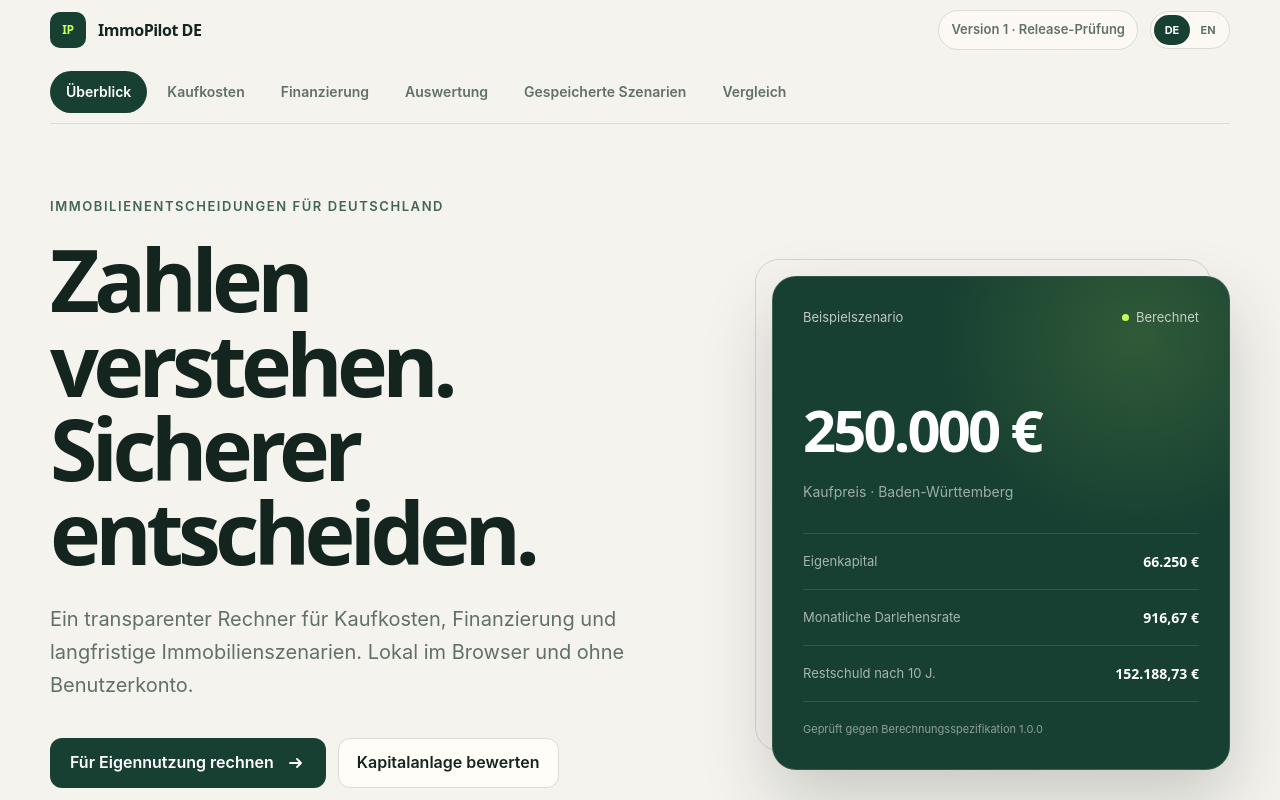
Test: App › opens the property comparison workspace from the primary navigation
This screenshot has width=1280, height=800.
Click the link "Vergleich". click: (754, 92)
box: x1=722 y1=83 x2=786 y2=100
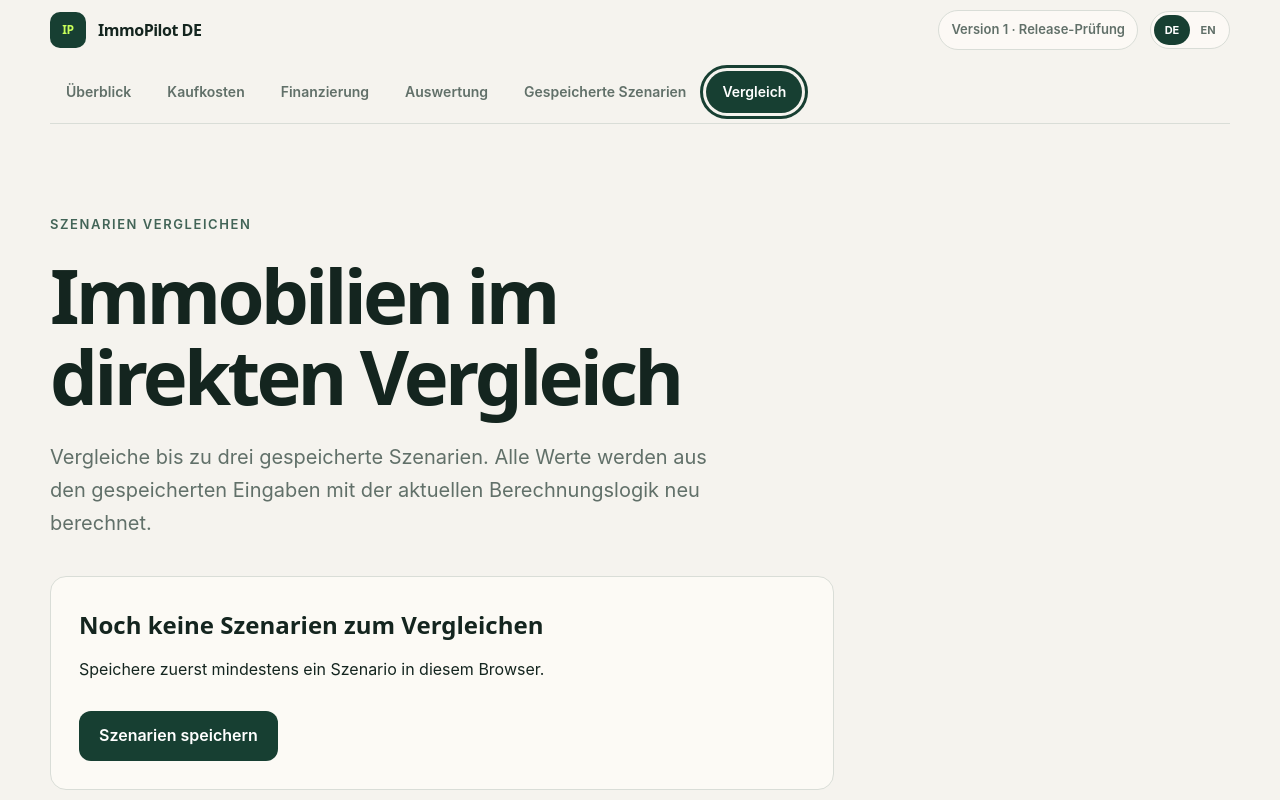
Expected: the heading "Immobilien im direkten Vergleich" is shown, x1=50 y1=243 x2=680 y2=427
